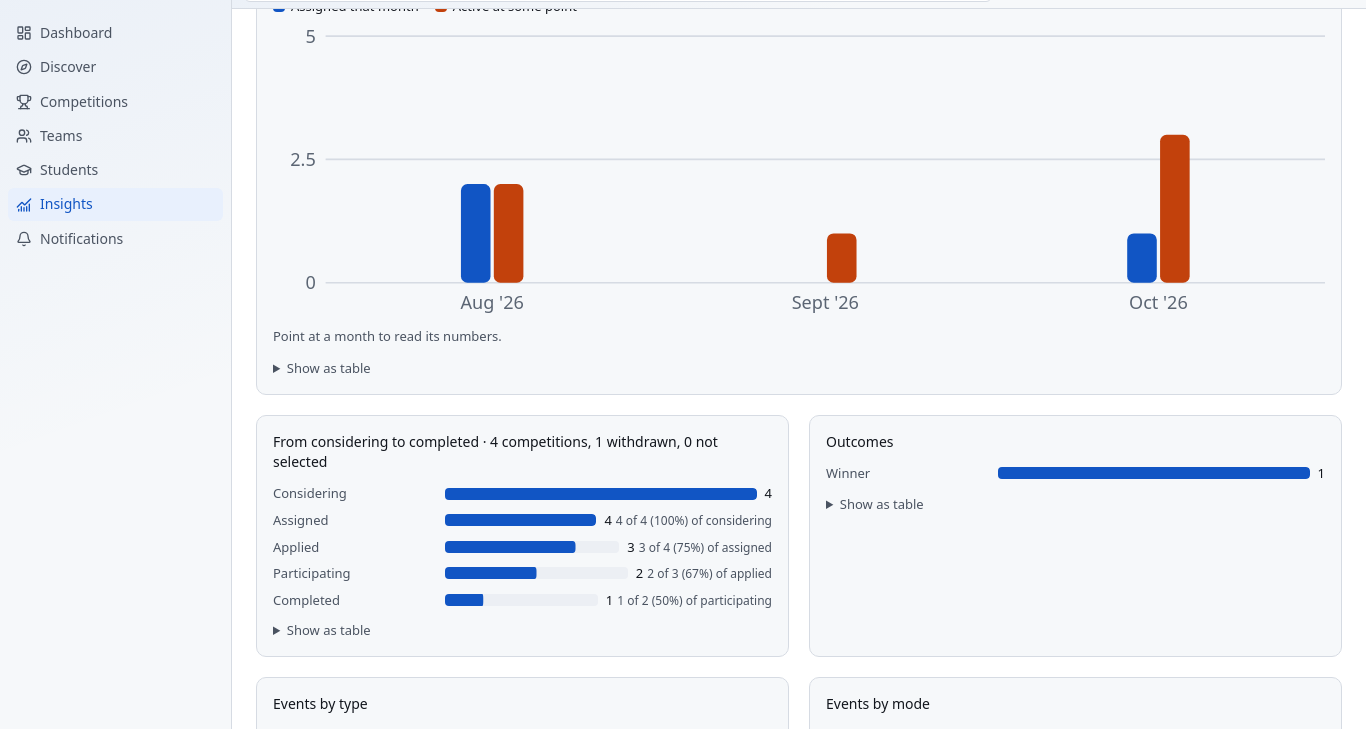
it: the Insights screen › offers every chart as a table
(page scrolled)
Click the heading "Show as table" below "Point at a month to read its numbers.": (329, 368) [287,359,371,377]
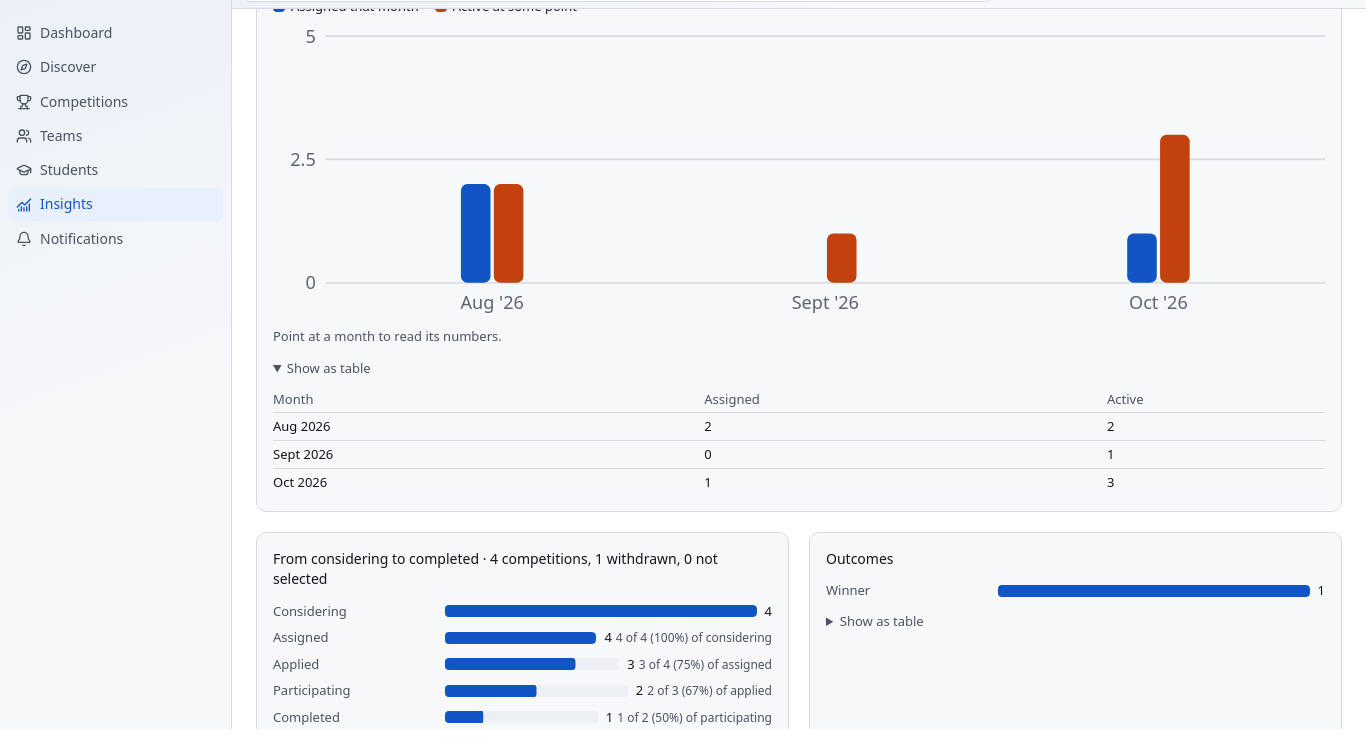
Expected: the column heading "Oct 2026" is shown, [273,468,704,495]
